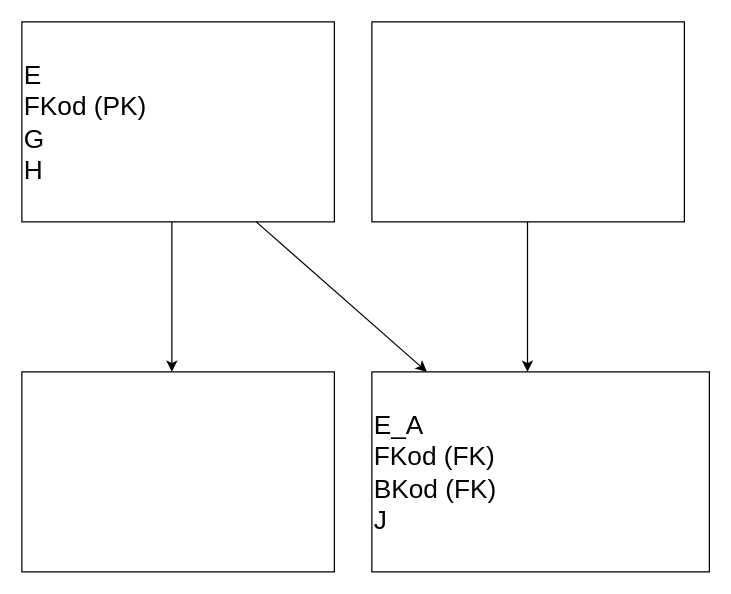
Some shapes in this 731 by 594 pixel diagram are drawn without their labels. The shapes that lost their labels are listed below. From the top down, each one's centre as x and y in pixels, then its label:
point 527,121: A BKod (PK) C D1 D2 D3
point 177,471: E_I FKod (FK) I
